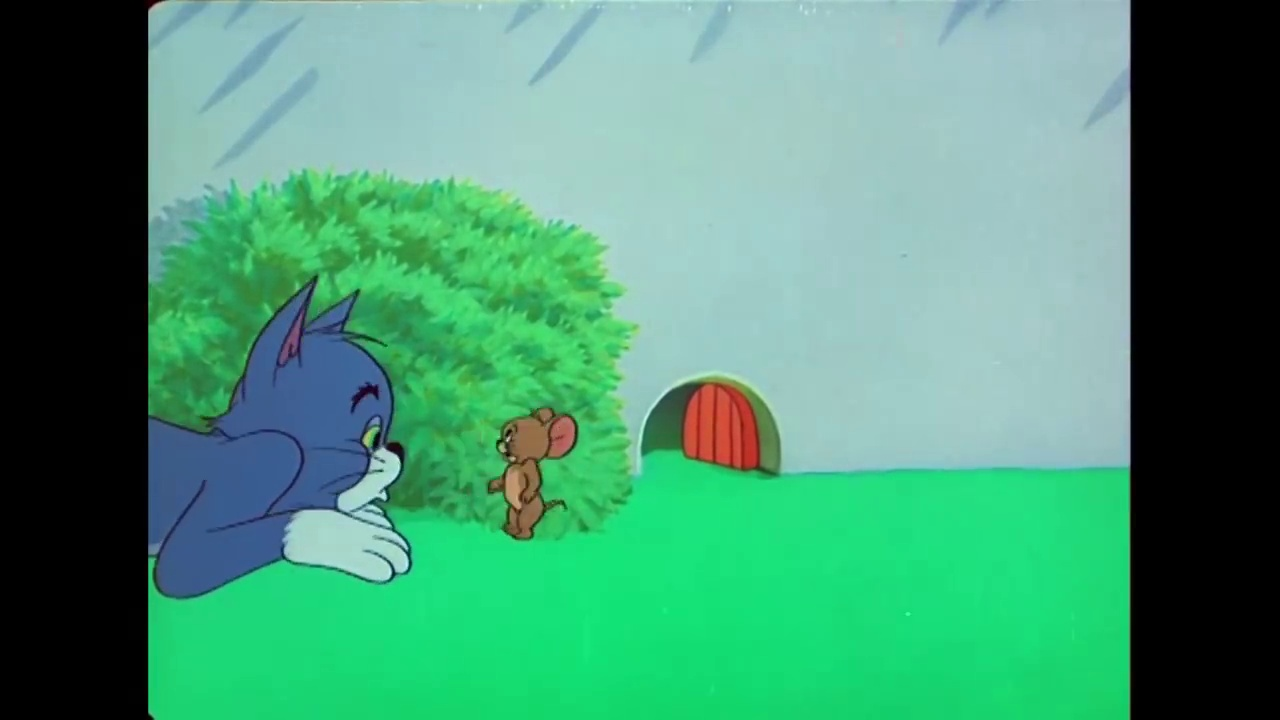tom: (207, 272, 413, 519)
